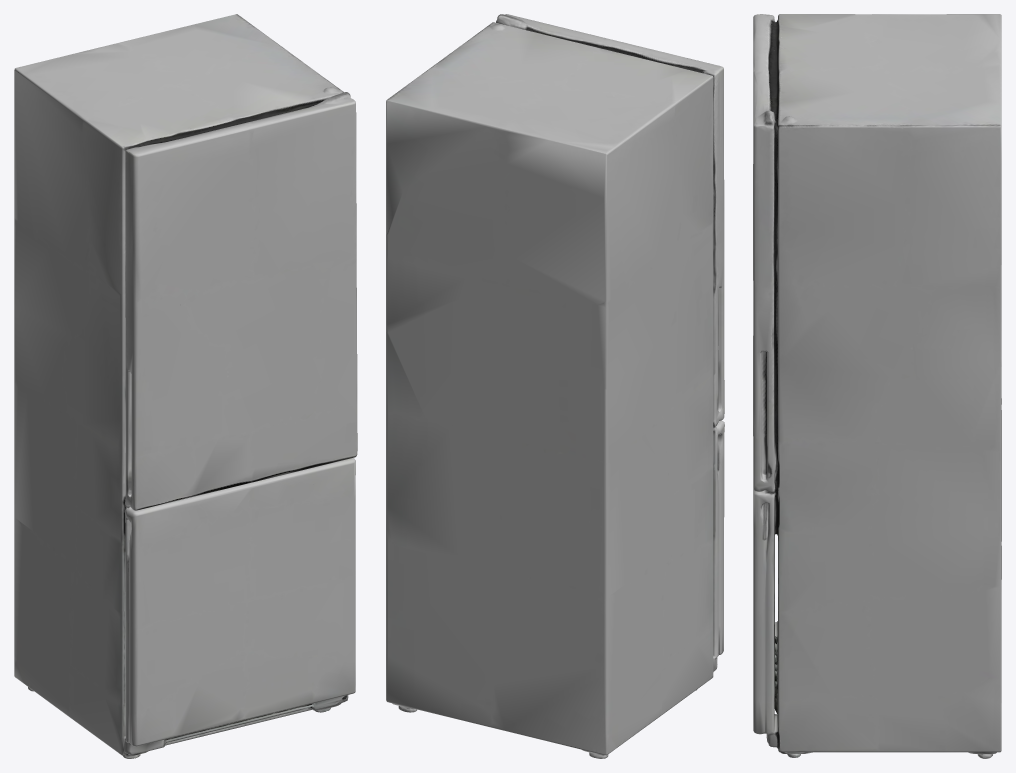
Rendered from fridge.d75f60d6.glb.
The picture shows the model from 3 angles, left to right: view 1: azimuth 30°, elevation 25°; view 2: azimuth 150°, elevation 25°; view 3: azimuth 270°, elevation 25°; orthographic projection. The views are drawn at different scales.
Parts seen in each view (by area): view 1: tripo_node_1cb31c16-e022-4b91-992b-dbed98cd4aa8; view 2: tripo_node_1cb31c16-e022-4b91-992b-dbed98cd4aa8; view 3: tripo_node_1cb31c16-e022-4b91-992b-dbed98cd4aa8.
Boxes of the visible parts, box(x1,y1,x2,y2) form: tripo_node_1cb31c16-e022-4b91-992b-dbed98cd4aa8: box(14, 14, 357, 758); tripo_node_1cb31c16-e022-4b91-992b-dbed98cd4aa8: box(386, 14, 724, 758); tripo_node_1cb31c16-e022-4b91-992b-dbed98cd4aa8: box(753, 14, 1001, 758).
Size of the model in its own units: 0.6999 by 1.85 by 0.65.
Materials: 1 (1 with a texture image).
